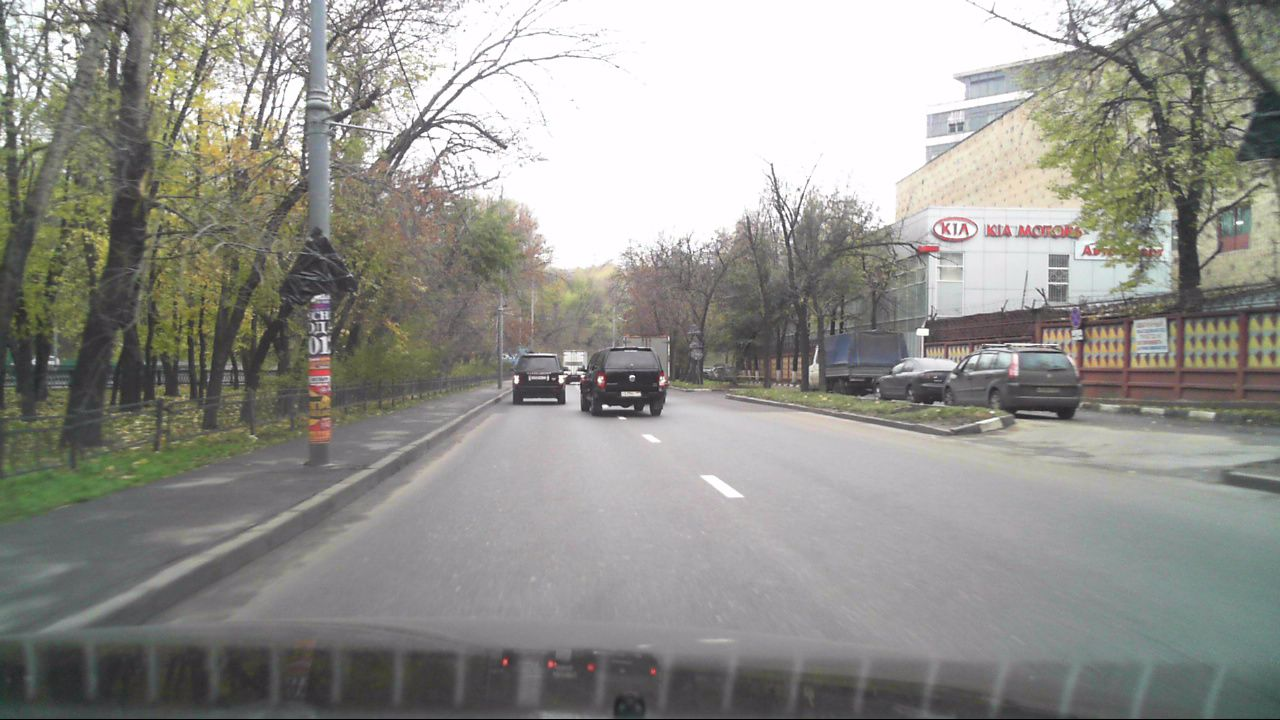No Parking: (1069, 306, 1085, 329)
